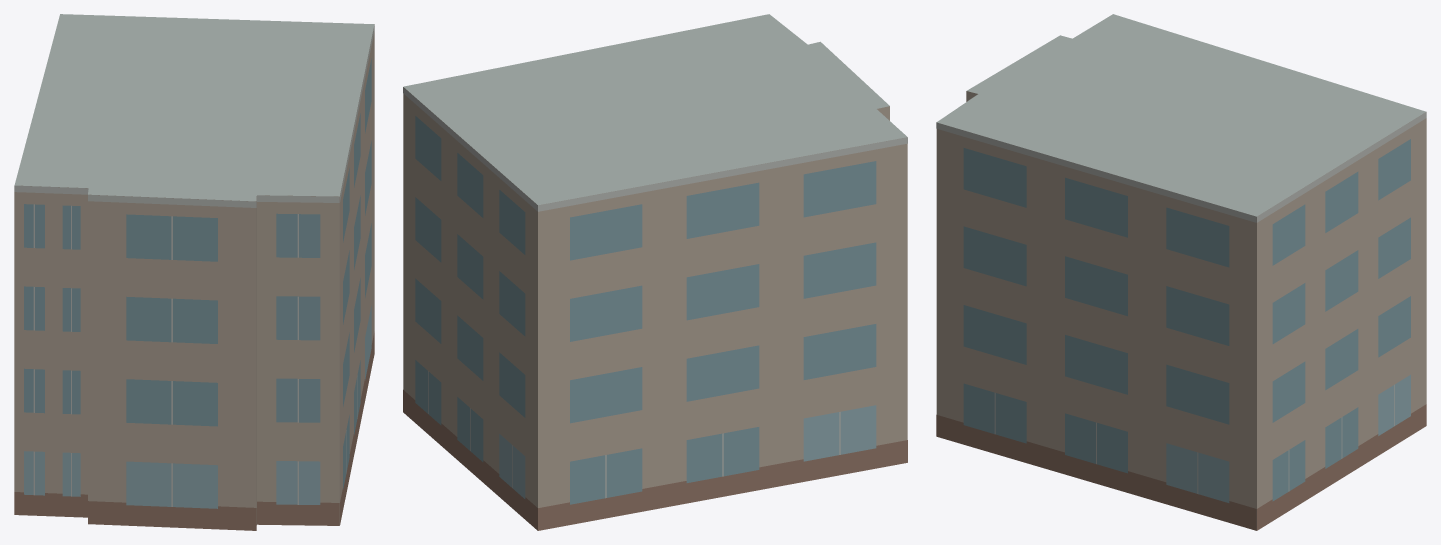
The model's file is survey-upis-32836776.glb.
3 views of the same model, side by side, from view 1: azimuth 30°, elevation 25°; view 2: azimuth 150°, elevation 25°; view 3: azimuth 270°, elevation 25° (orthographic). The views are drawn at different scales.
Visible parts, largest first — view 1: survey-upis-32836776.tmp; view 2: survey-upis-32836776.tmp; view 3: survey-upis-32836776.tmp.
Boxes of the visible parts, x1,y1,x2,y2 form: survey-upis-32836776.tmp: [14, 14, 374, 530]; survey-upis-32836776.tmp: [403, 14, 907, 530]; survey-upis-32836776.tmp: [936, 14, 1426, 530].
Bounding box in the file's own units: 16.88 × 12.2 × 17.25.
